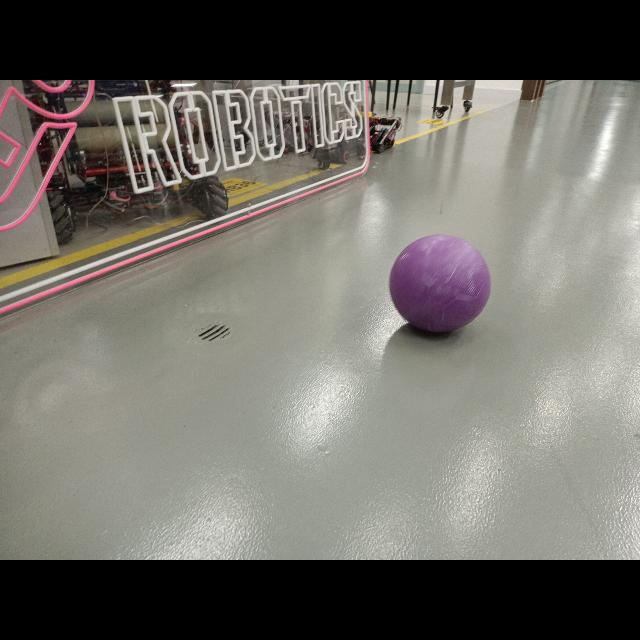P: (389, 234, 491, 332)
